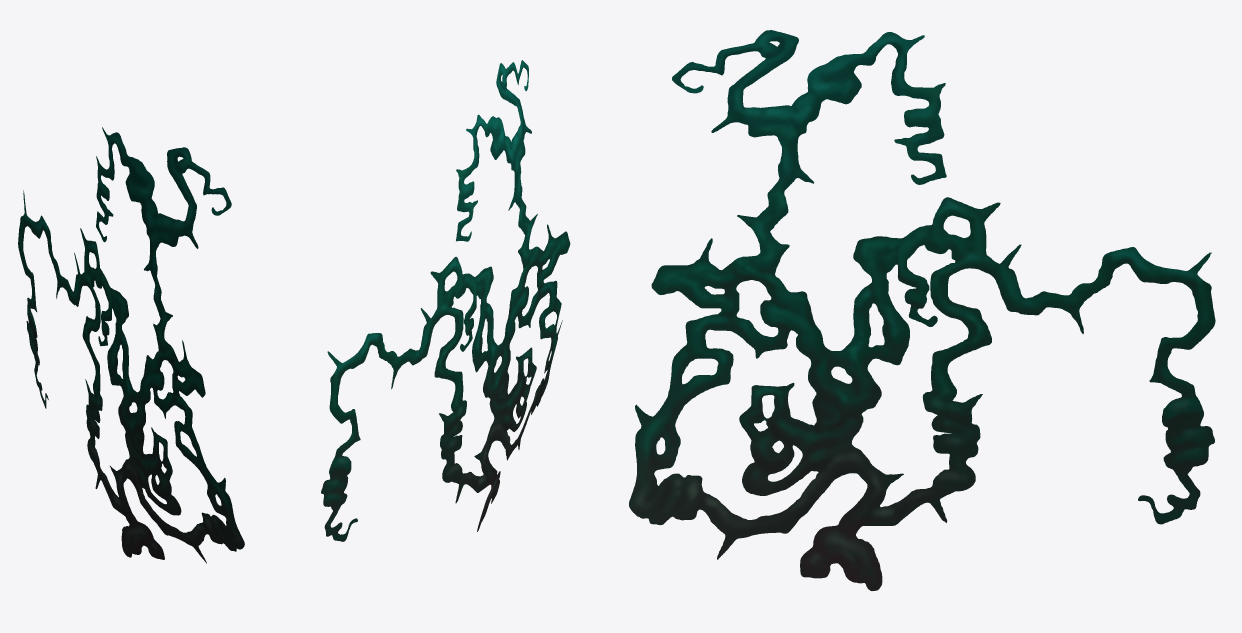
Rendered from SleepingGarden_Convolvulus_02.fbx.
3 views of the same model, side by side, from view 1: azimuth 30°, elevation 25°; view 2: azimuth 150°, elevation 25°; view 3: azimuth 270°, elevation 25° (orthographic). The views are drawn at different scales.
Parts seen in each view (by area): view 1: SleepingGarden_Convolvulus_02; view 2: SleepingGarden_Convolvulus_02; view 3: SleepingGarden_Convolvulus_02.
Part boxes in pixels (box(x1,y1,x2,y2)): SleepingGarden_Convolvulus_02: box(18, 127, 244, 563); SleepingGarden_Convolvulus_02: box(321, 60, 570, 541); SleepingGarden_Convolvulus_02: box(629, 30, 1215, 590).
Size of the model in its own units: 0.151 by 1.22 by 1.19.
1 material, 1 textured.
